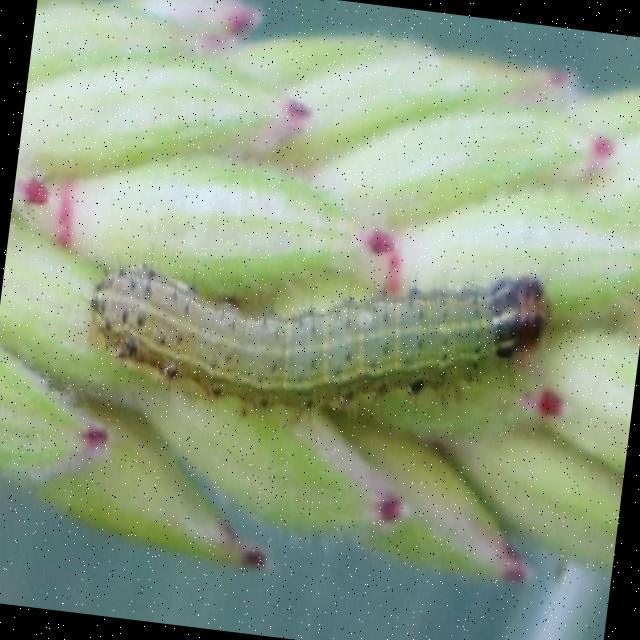worm: (77, 220, 556, 445)
